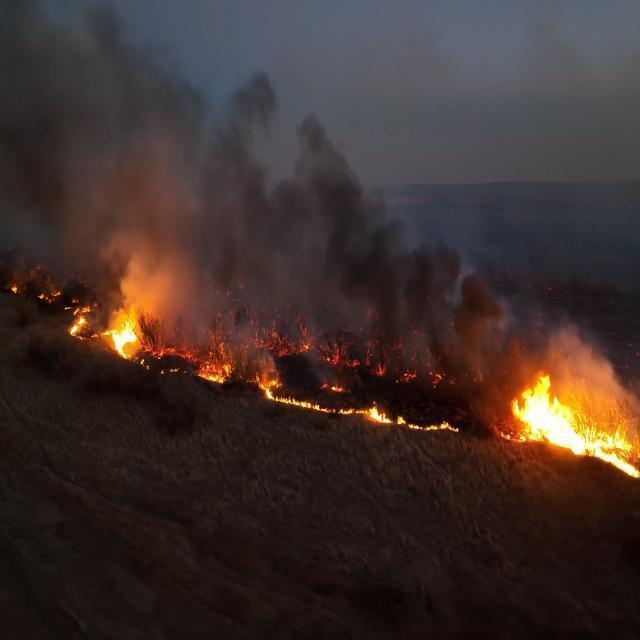Fire: (515, 381, 638, 469), (112, 311, 146, 363)
Smoke: (144, 74, 312, 287), (310, 145, 470, 363), (0, 0, 121, 283), (543, 318, 617, 379)
